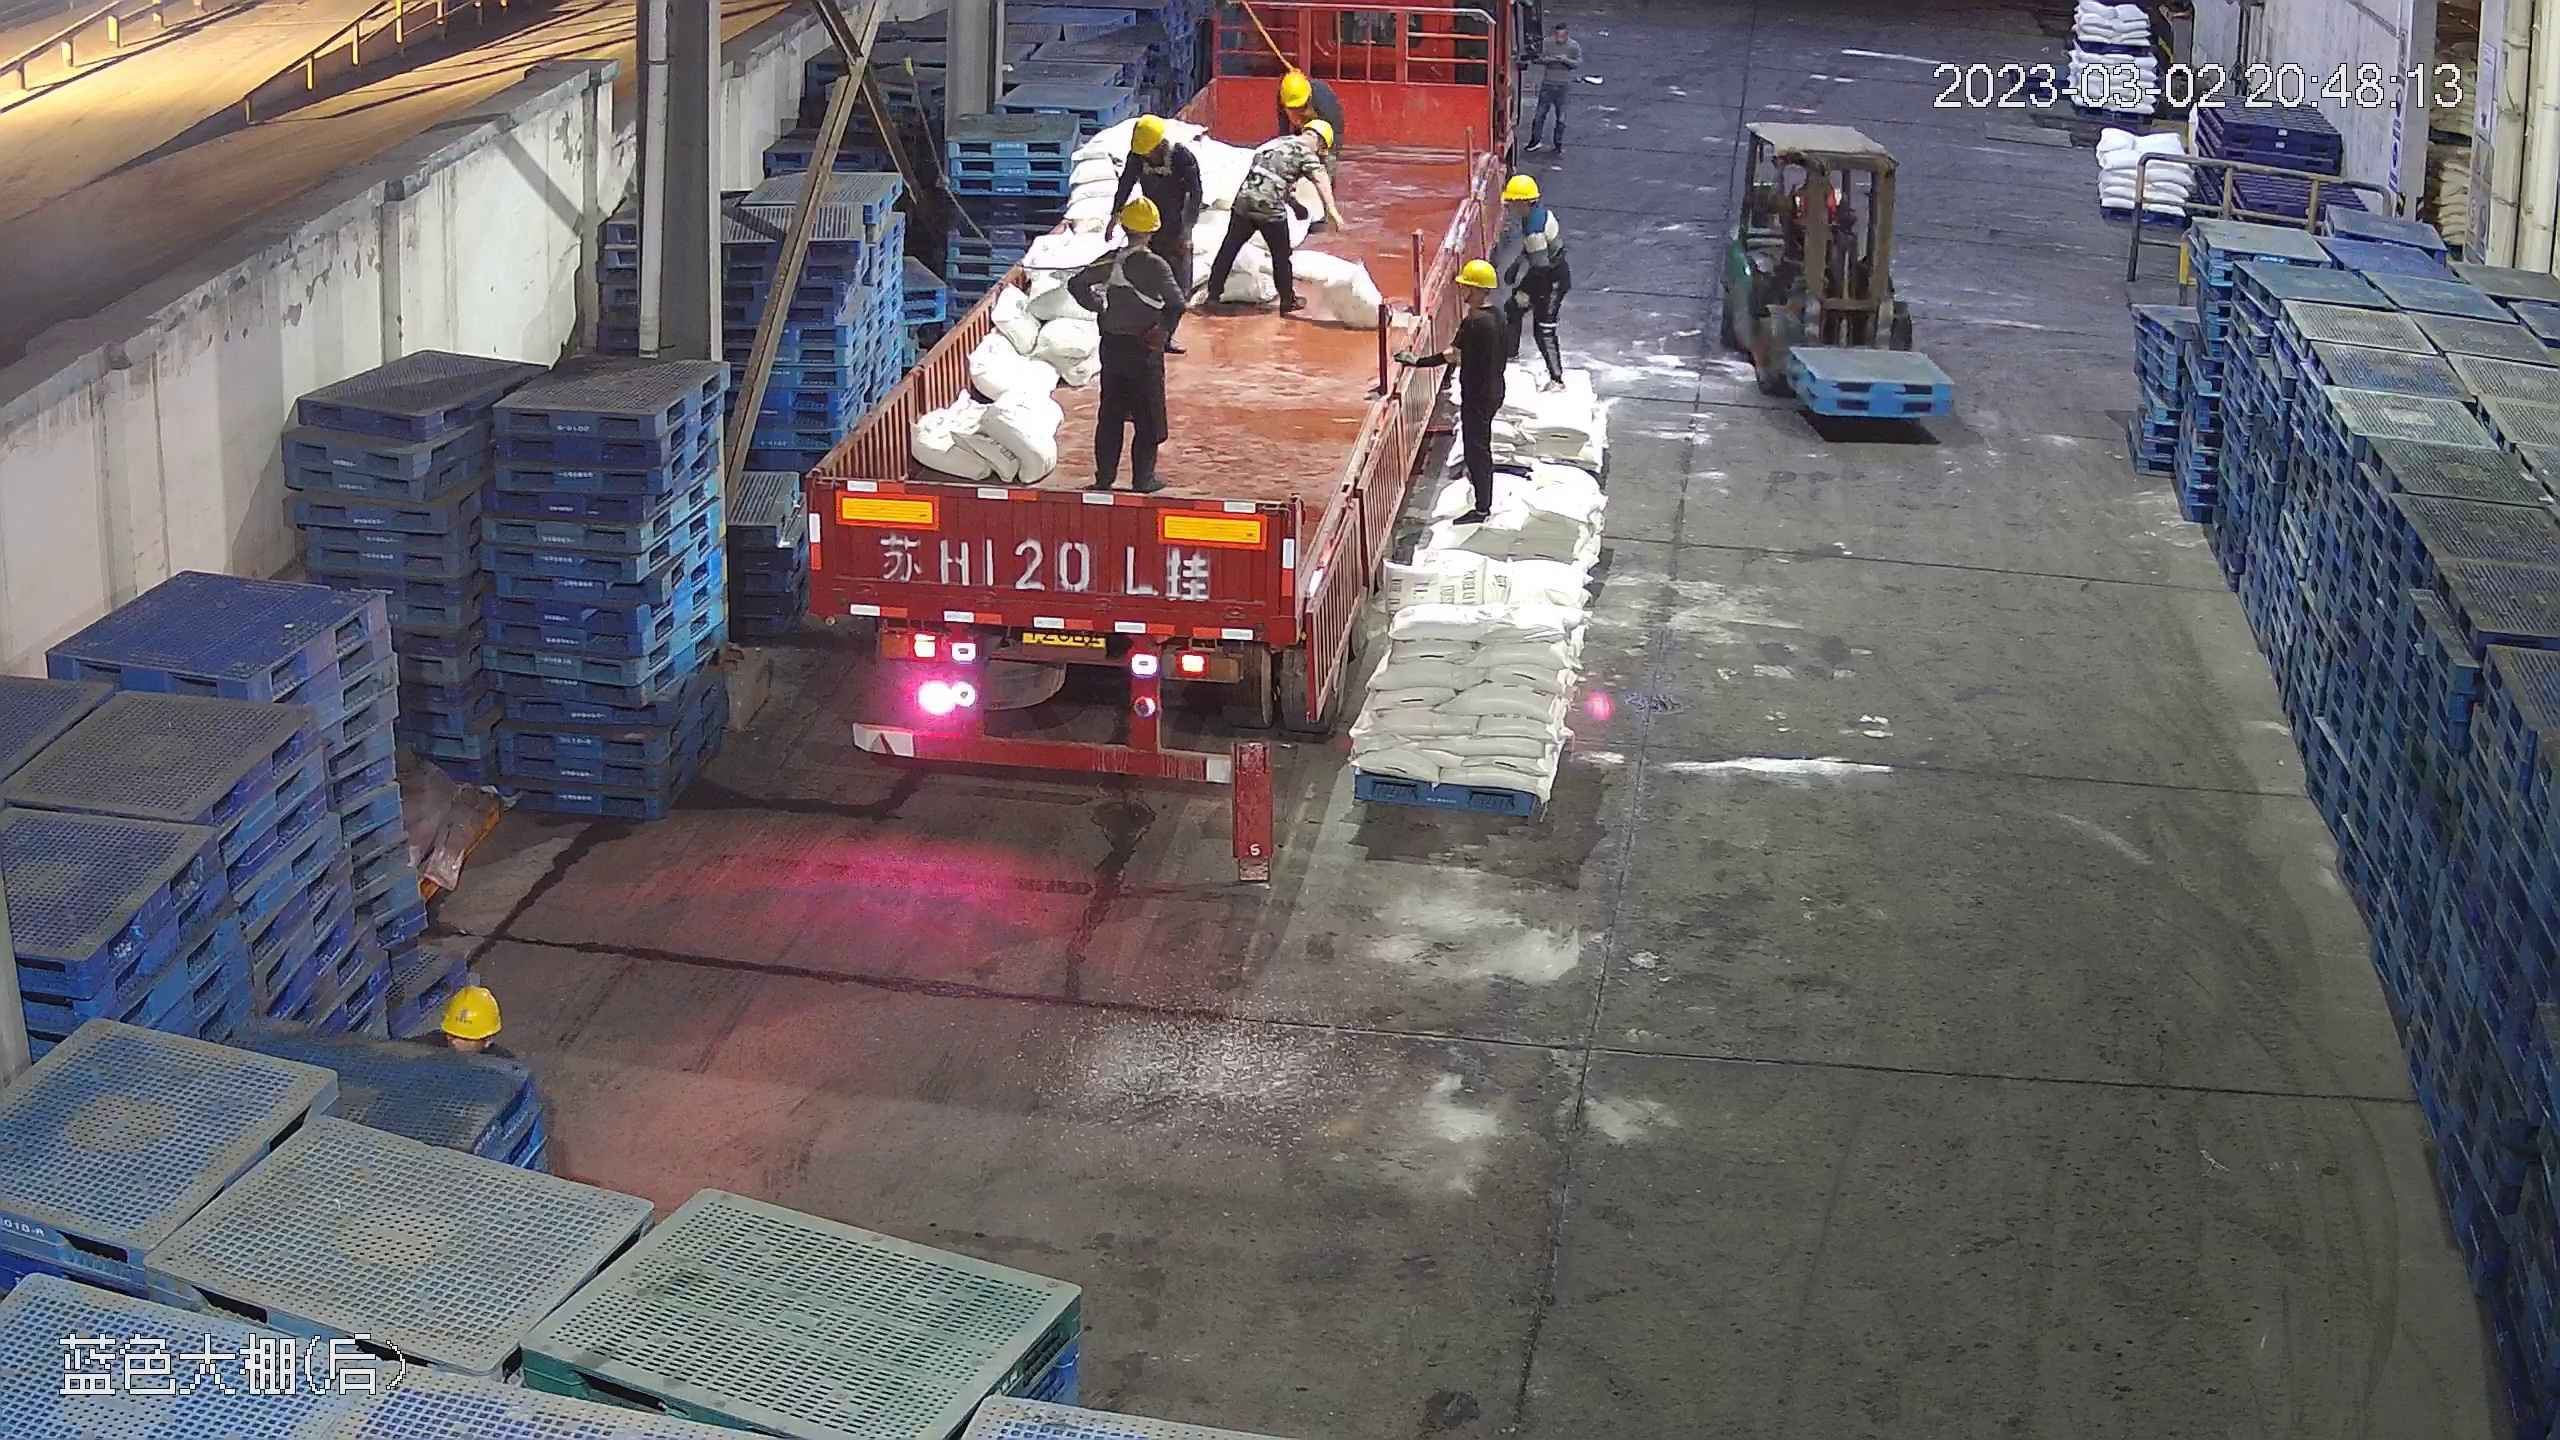belt: (1091, 239, 1174, 310), (1245, 134, 1309, 198), (1141, 142, 1176, 180), (1282, 100, 1313, 128), (1280, 60, 1305, 75)
head: (419, 981, 539, 1115), (1086, 196, 1180, 301), (1119, 113, 1202, 190), (1255, 120, 1339, 190), (1494, 173, 1566, 253), (1446, 262, 1511, 348), (1267, 68, 1340, 138), (1540, 20, 1581, 64)
helmet: (439, 982, 502, 1038), (1114, 197, 1166, 237), (1126, 115, 1166, 155), (1278, 67, 1311, 109), (1455, 258, 1498, 290), (1502, 174, 1538, 203)
people: (407, 977, 560, 1396), (1056, 195, 1186, 495), (1193, 105, 1337, 316), (1445, 262, 1513, 524), (1498, 173, 1570, 404), (1116, 112, 1209, 266), (1531, 14, 1580, 154)
truck: (808, 36, 1498, 772)
